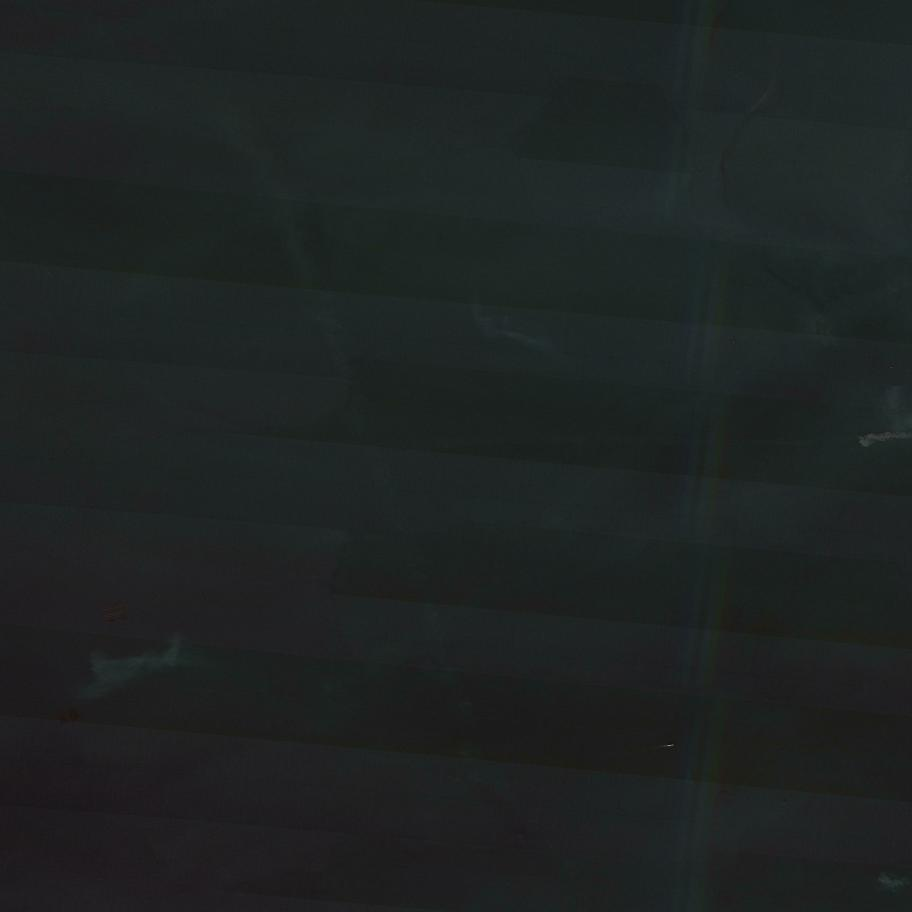ship: (668, 744, 674, 747)
